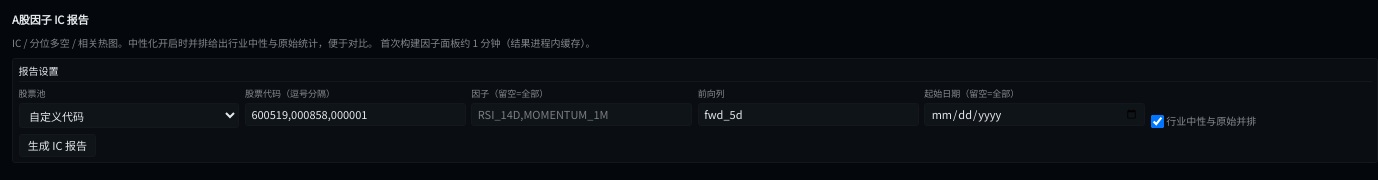
AshareFactorReportPage › error 分支:mock reject 时错误信息显示,不渲染分区
Click the button "生成 IC 报告" at [57, 145], box [18,134,96,157]
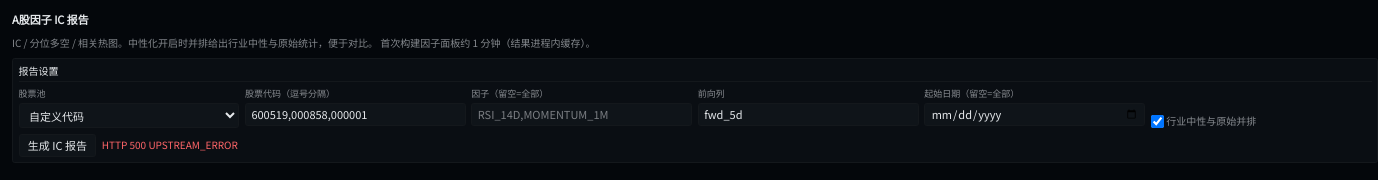
Expected: the text "HTTP 500 UPSTREAM_ERROR" is shown, [102,138,238,152]
